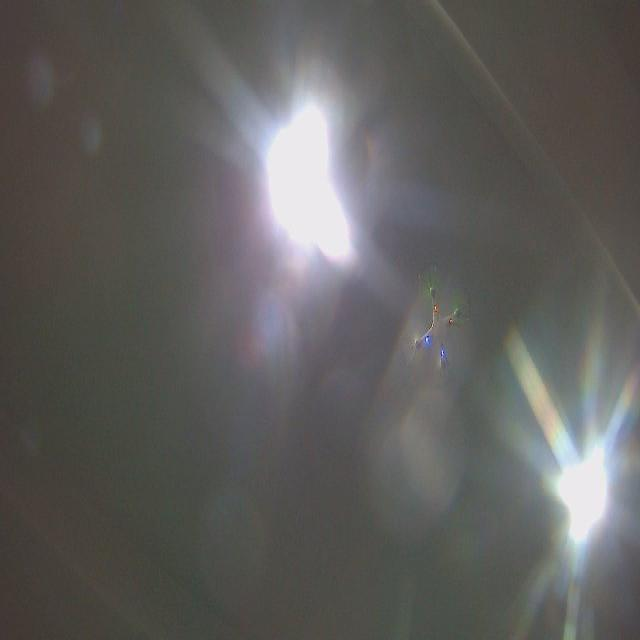drone: (398, 258, 472, 392)
